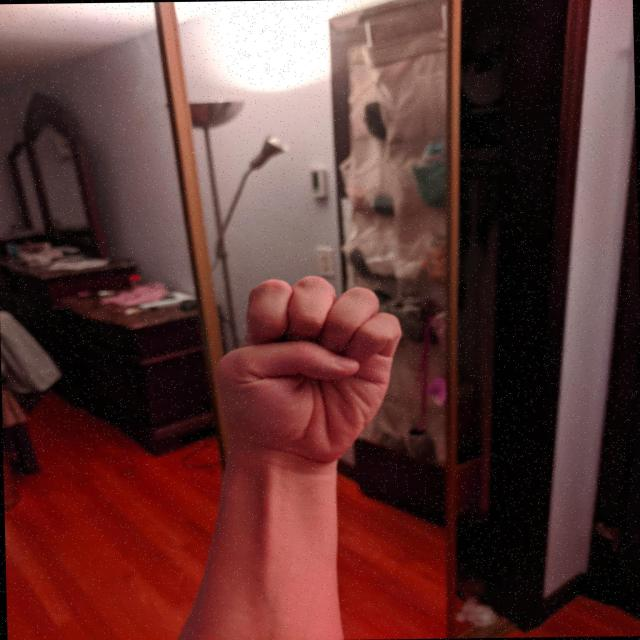E: (204, 271, 409, 474)
